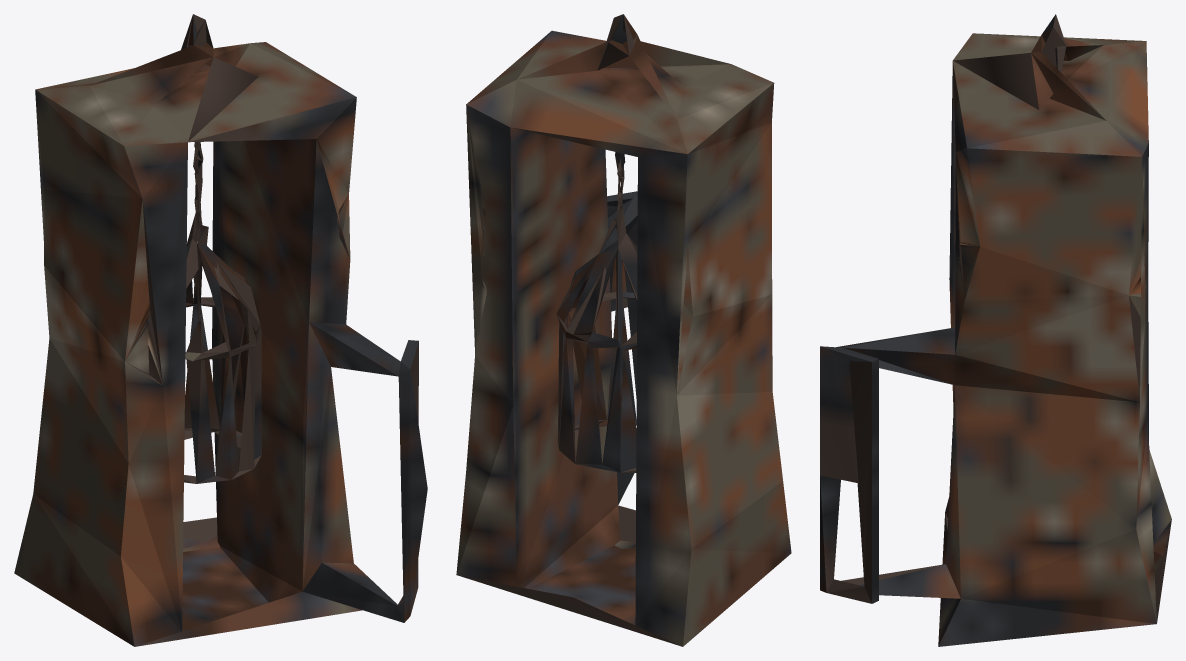
Rendered from SM_MeshyCage.fbx.
3 views of the same model, side by side, from view 1: azimuth 30°, elevation 25°; view 2: azimuth 150°, elevation 25°; view 3: azimuth 270°, elevation 25° (orthographic). The views are drawn at different scales.
Visible parts, largest first — view 1: SM_MeshyCage; view 2: SM_MeshyCage; view 3: SM_MeshyCage.
Boxes of the visible parts, left/top/right/bottom form: SM_MeshyCage: left=14, top=14, right=427, bottom=646; SM_MeshyCage: left=456, top=14, right=791, bottom=646; SM_MeshyCage: left=820, top=14, right=1171, bottom=646.
Bounding box in the file's own units: 0.7467 × 1.66 × 0.9213.
Materials: 1 (1 with a texture image).
